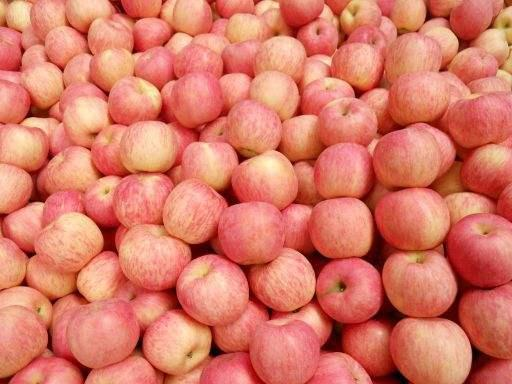apple: (390, 315, 474, 383), (118, 221, 192, 290), (176, 253, 247, 322), (68, 298, 139, 367), (249, 315, 320, 384), (447, 212, 510, 289), (372, 125, 445, 190), (376, 183, 449, 248), (384, 247, 452, 313), (218, 201, 286, 267), (304, 193, 372, 259), (314, 258, 382, 324), (32, 211, 103, 271), (161, 177, 227, 241), (233, 147, 298, 210), (456, 287, 512, 360), (223, 96, 284, 154), (448, 90, 509, 148), (1, 303, 48, 376), (312, 141, 372, 198), (118, 117, 176, 174), (166, 71, 224, 128), (388, 69, 447, 123), (319, 95, 378, 144), (42, 144, 100, 193), (107, 74, 160, 122), (384, 31, 443, 74), (62, 95, 110, 146), (1, 122, 48, 172), (331, 41, 379, 86), (256, 36, 304, 81), (22, 58, 65, 106), (91, 45, 136, 88), (43, 25, 87, 64), (1, 162, 34, 213), (295, 17, 337, 57), (87, 17, 135, 52), (167, 1, 212, 34), (1, 77, 30, 124)
